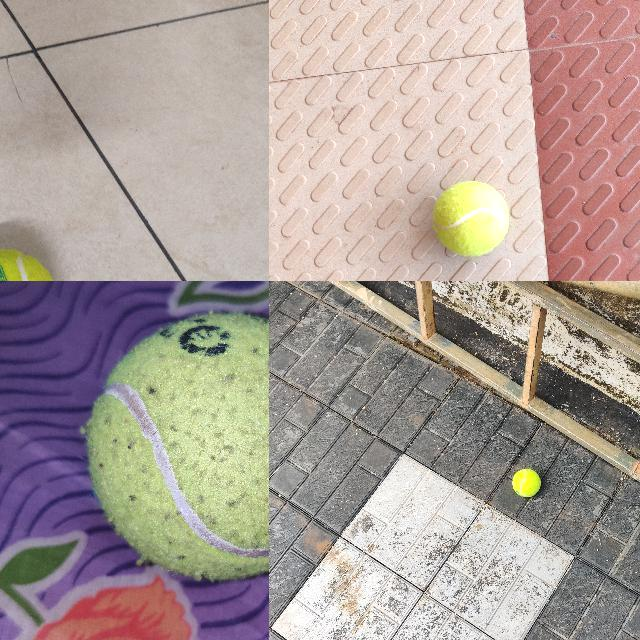Tennis Ball: (86, 312, 269, 581), (432, 181, 509, 256), (512, 469, 541, 498)
